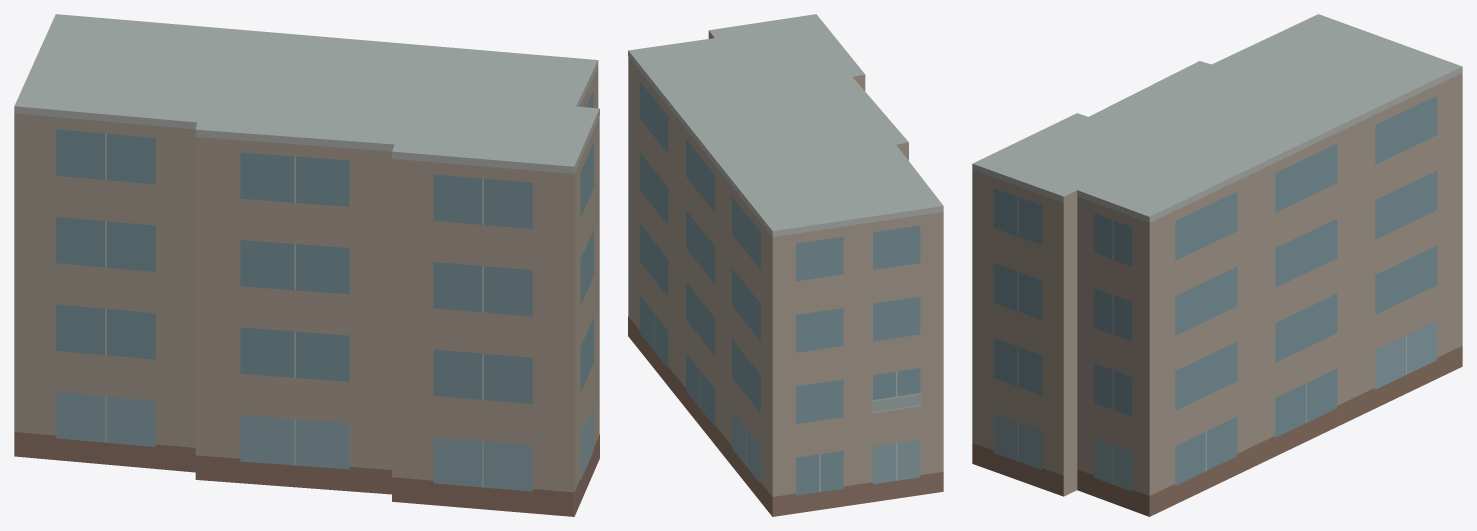
File: survey-upis-32718887.glb
The picture shows the model from 3 angles, left to right: view 1: azimuth 30°, elevation 25°; view 2: azimuth 150°, elevation 25°; view 3: azimuth 270°, elevation 25°; orthographic projection. The views are drawn at different scales.
Parts seen in each view (by area): view 1: survey-upis-32718887.tmp; view 2: survey-upis-32718887.tmp; view 3: survey-upis-32718887.tmp.
Boxes of the visible parts, bbox=[...] form: survey-upis-32718887.tmp: bbox=[14, 14, 599, 516]; survey-upis-32718887.tmp: bbox=[628, 14, 943, 516]; survey-upis-32718887.tmp: bbox=[972, 14, 1462, 516].
Bounding box in the file's own units: 17.2 × 11.85 × 17.56.
